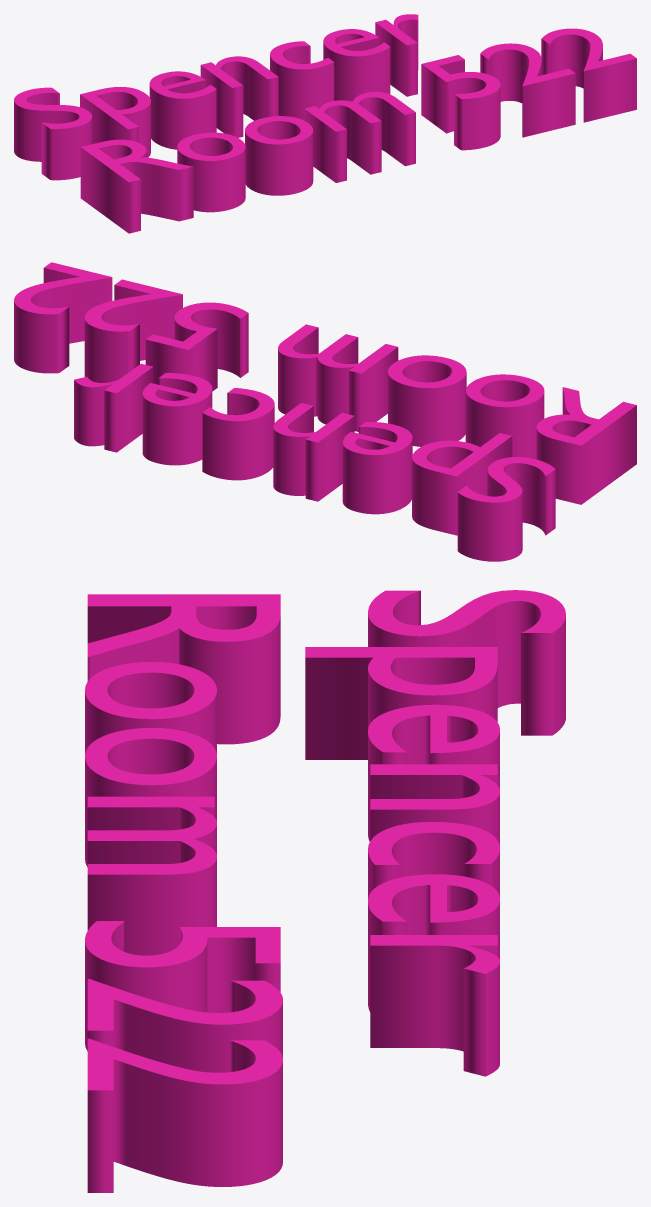
The model's file is spencer-522.gltf.
The picture shows the model from 3 angles, top to bottom: view 1: azimuth 30°, elevation 25°; view 2: azimuth 150°, elevation 25°; view 3: azimuth 270°, elevation 25°; orthographic projection. The views are drawn at different scales.
Parts seen in each view (by area): view 1: Text; view 2: Text; view 3: Text.
Boxes of the visible parts, x1,y1,x2,y2 form: Text: [14, 14, 636, 233]; Text: [14, 262, 636, 561]; Text: [85, 590, 565, 1192].
Size of the model in its own units: 4.18 by 0.4 by 1.7.
